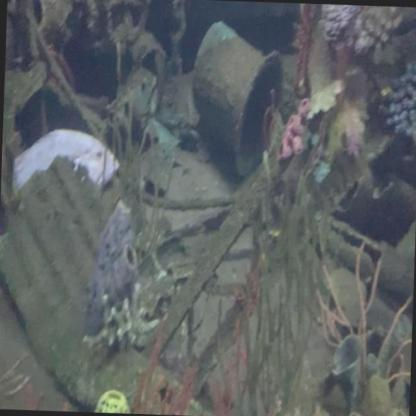fish: (10, 128, 121, 203)
